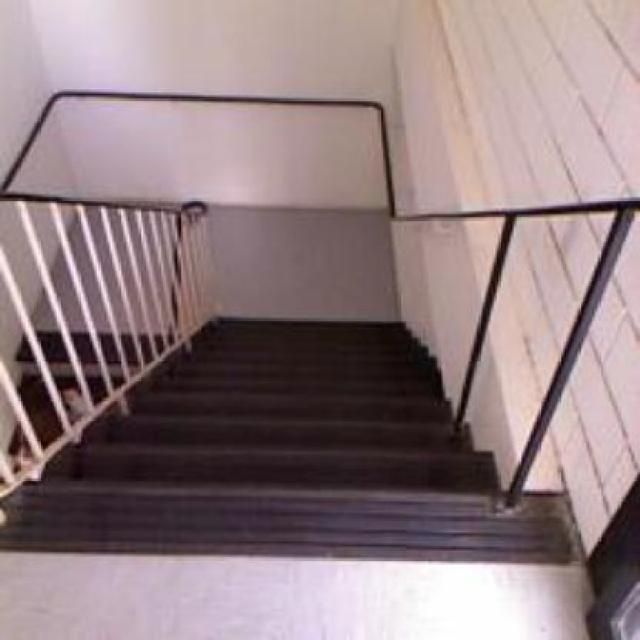stair: (51, 294, 503, 534)
